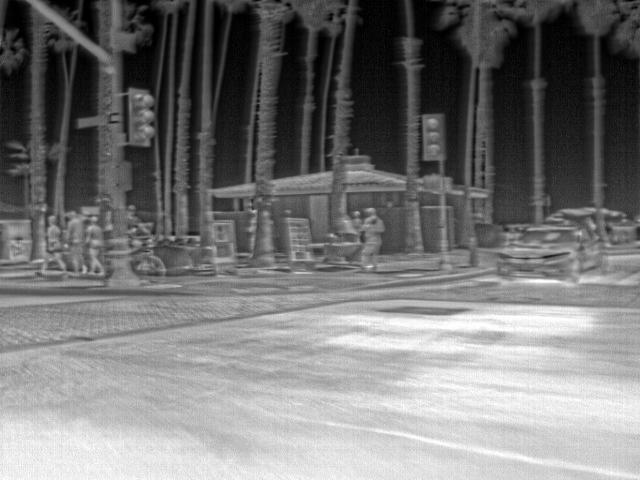car: (496, 220, 605, 280)
person: (360, 206, 384, 270), (43, 215, 67, 273), (65, 209, 85, 271), (85, 214, 106, 273), (125, 200, 147, 230)
